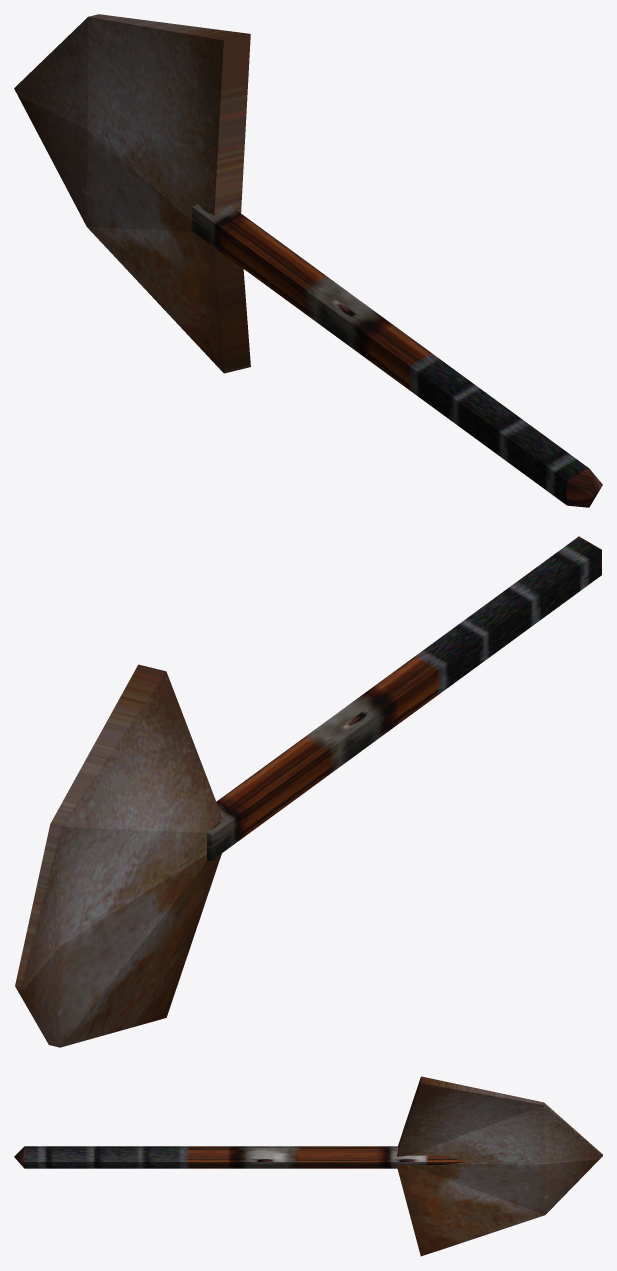
Rendered from shovel2.obj.
The picture shows the model from 3 angles, top to bottom: view 1: azimuth 30°, elevation 25°; view 2: azimuth 150°, elevation 25°; view 3: azimuth 270°, elevation 25°; orthographic projection. The views are drawn at different scales.
Size of the model in its own units: 0.5464 by 2.7 by 8.3.
2 materials, 2 textured.
